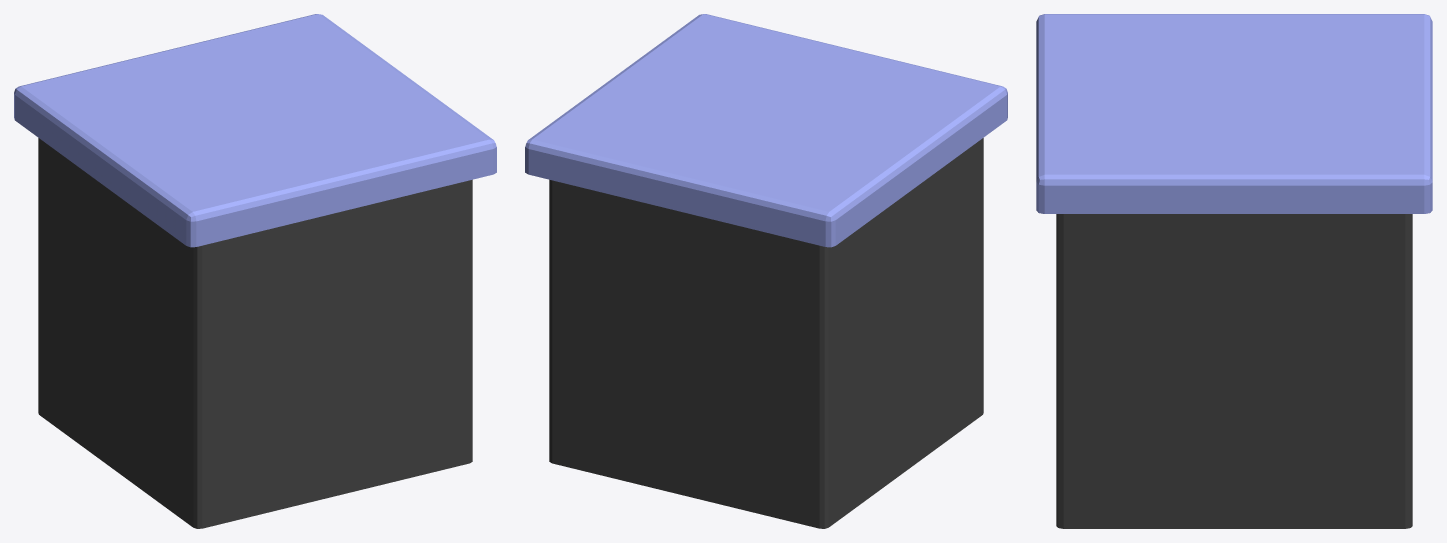
File: Workbench_Motherboard_Test.fbx
3 views of the same model, side by side, from view 1: azimuth 30°, elevation 25°; view 2: azimuth 150°, elevation 25°; view 3: azimuth 270°, elevation 25° (orthographic). The views are drawn at different scales.
Parts seen in each view (by area): view 1: Workbench Motherboard Test; view 2: Workbench Motherboard Test; view 3: Workbench Motherboard Test.
Part boxes in pixels (left/top/right/bottom): Workbench Motherboard Test: left=14, top=14, right=496, bottom=528; Workbench Motherboard Test: left=525, top=14, right=1007, bottom=528; Workbench Motherboard Test: left=1036, top=14, right=1432, bottom=528.
Size of the model in its own units: 100 by 100 by 100.
